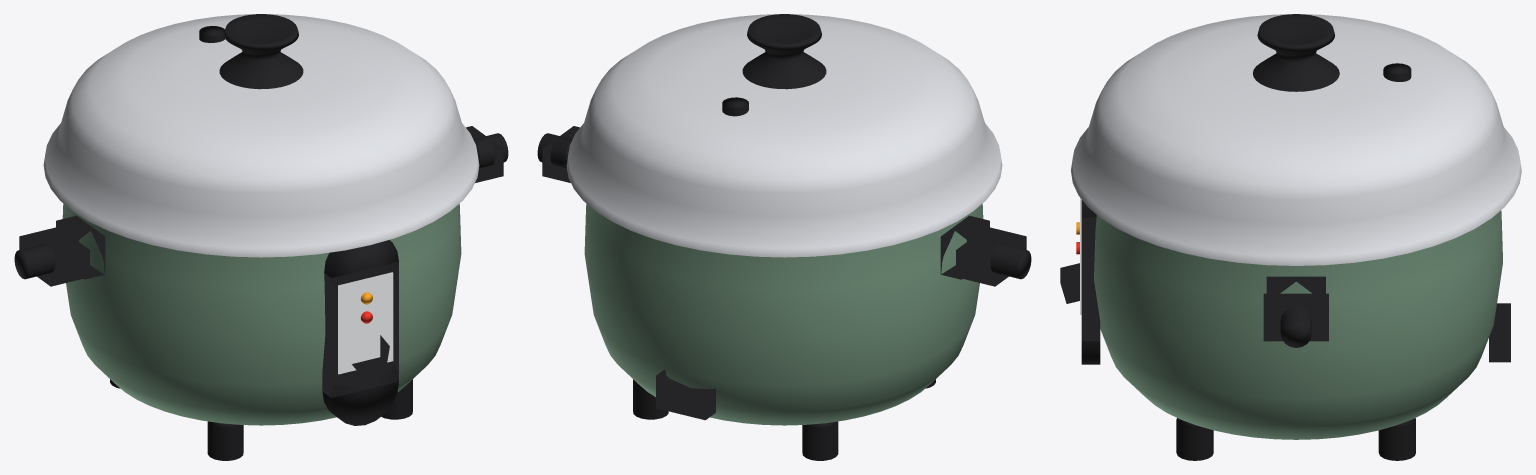
The model's file is RiceCooker.obj.
3 renders of one model, left to right at view 1: azimuth 30°, elevation 25°; view 2: azimuth 150°, elevation 25°; view 3: azimuth 270°, elevation 25°, orthographic. The views are drawn at different scales.
Parts seen in each view (by area): view 1: Lid_Dome, Cooker_Body, Lid_Knob, Panel_Faceplate, Panel_Bezel, Panel_Bezel_Bot, Handle_Left_Wing, Panel_Bezel_Top, Foot_1, Handle_Left_Tip, Handle_Left_Bracket, Handle_Right_Tip (+2 smaller); view 2: Lid_Dome, Cooker_Body, Lid_Knob, Handle_Left_Wing, Power_Socket, Foot_2, Handle_Left_Tip, Handle_Left_Bracket, Foot_3, Handle_Right_Tip, Handle_Right_Wing; view 3: Lid_Dome, Cooker_Body, Lid_Knob, Handle_Right_Wing, Panel_Bezel, Foot_0, Foot_3, Power_Socket, Handle_Right_Tip, Handle_Right_Bracket, Panel_Switch, Panel_Bezel_Bot (+1 smaller).
Boxes of the visible parts, x1=… form: Lid_Dome: x1=43, y1=14, x2=479, y2=257; Cooker_Body: x1=62, y1=203, x2=461, y2=425; Lid_Knob: x1=219, y1=14, x2=303, y2=89; Panel_Faceplate: x1=338, y1=272, x2=393, y2=374; Panel_Bezel: x1=322, y1=261, x2=398, y2=397; Panel_Bezel_Bot: x1=322, y1=361, x2=398, y2=425; Handle_Left_Wing: x1=19, y1=227, x2=89, y2=286; Panel_Bezel_Top: x1=324, y1=240, x2=398, y2=296; Foot_1: x1=207, y1=421, x2=243, y2=460; Handle_Left_Tip: x1=14, y1=243, x2=55, y2=279; Handle_Left_Bracket: x1=56, y1=215, x2=105, y2=279; Handle_Right_Tip: x1=473, y1=133, x2=508, y2=168; Lid_Dome: x1=566, y1=14, x2=1002, y2=257; Cooker_Body: x1=584, y1=203, x2=983, y2=425; Lid_Knob: x1=742, y1=14, x2=826, y2=89; Handle_Left_Wing: x1=956, y1=227, x2=1026, y2=286; Power_Socket: x1=656, y1=369, x2=715, y2=420; Foot_2: x1=802, y1=421, x2=838, y2=460; Handle_Left_Tip: x1=990, y1=243, x2=1031, y2=279; Handle_Left_Bracket: x1=940, y1=215, x2=989, y2=279; Foot_3: x1=633, y1=379, x2=668, y2=419; Handle_Right_Tip: x1=537, y1=133, x2=572, y2=168; Handle_Right_Wing: x1=542, y1=126, x2=579, y2=182; Lid_Dome: x1=1070, y1=14, x2=1521, y2=265; Cooker_Body: x1=1094, y1=210, x2=1502, y2=439; Lid_Knob: x1=1253, y1=14, x2=1339, y2=91; Handle_Right_Wing: x1=1263, y1=293, x2=1328, y2=341; Panel_Bezel: x1=1081, y1=217, x2=1100, y2=341; Foot_0: x1=1176, y1=418, x2=1213, y2=460; Foot_3: x1=1378, y1=418, x2=1415, y2=460; Power_Socket: x1=1489, y1=303, x2=1510, y2=362; Handle_Right_Tip: x1=1280, y1=306, x2=1311, y2=347; Handle_Right_Bracket: x1=1266, y1=276, x2=1325, y2=293; Panel_Switch: x1=1060, y1=263, x2=1079, y2=303; Panel_Bezel_Bot: x1=1081, y1=341, x2=1100, y2=364.
Size of the model in its own units: 0.368 by 0.27 by 0.2968.
